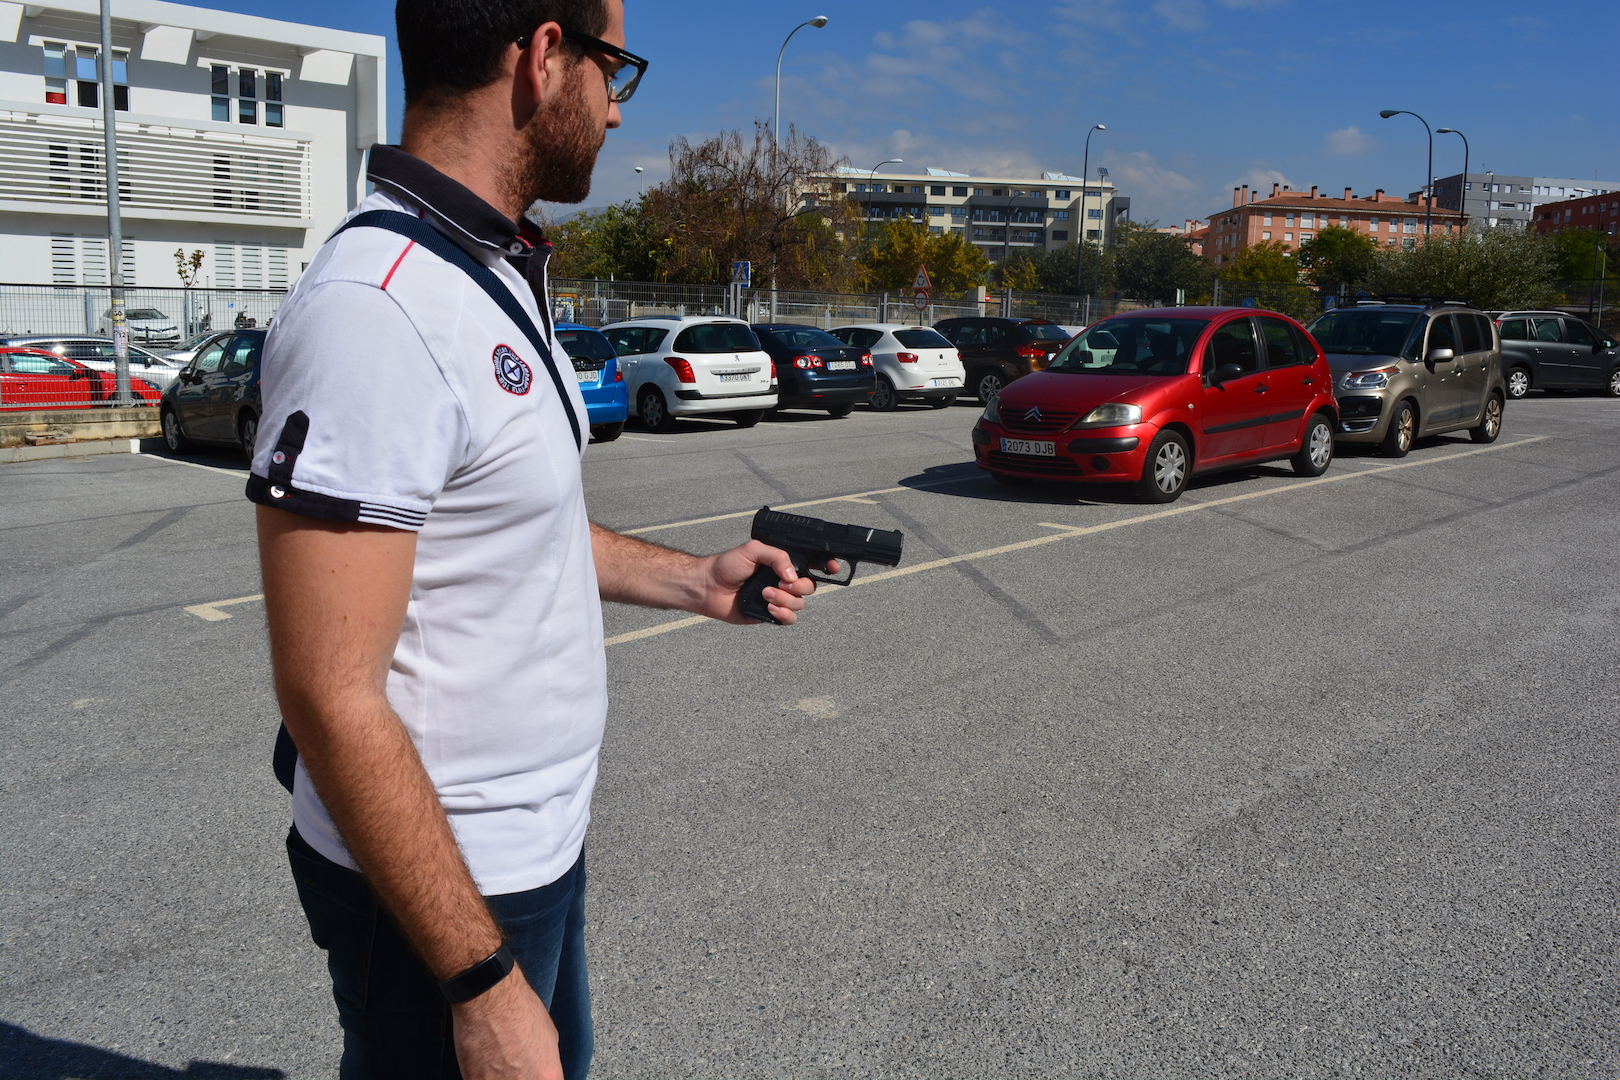pistol: (735, 505, 905, 627)
